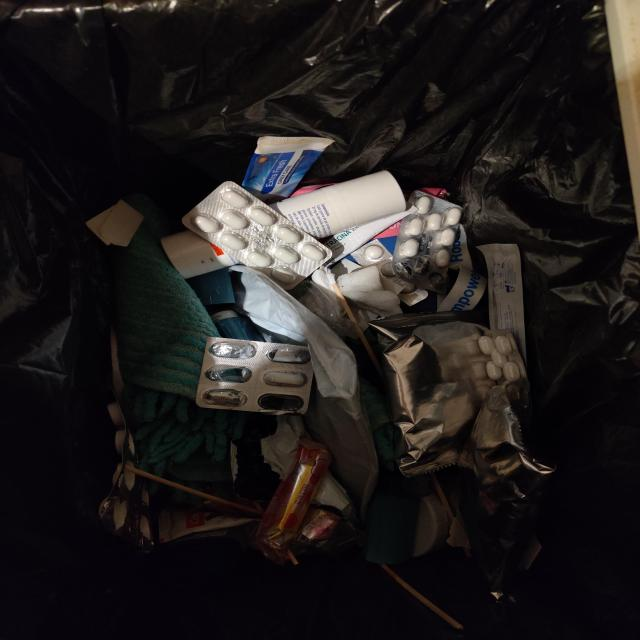litter: (162, 172, 407, 281), (174, 177, 342, 295), (187, 336, 332, 416)
